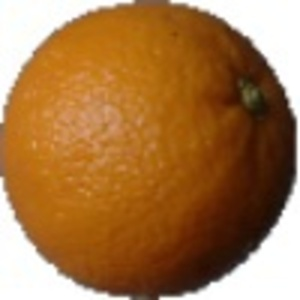laranja: (5, 3, 299, 298)
